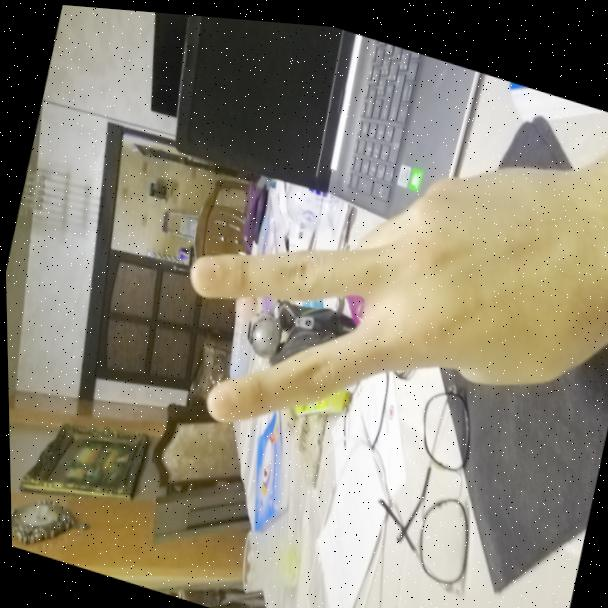two: (157, 70, 608, 516)
